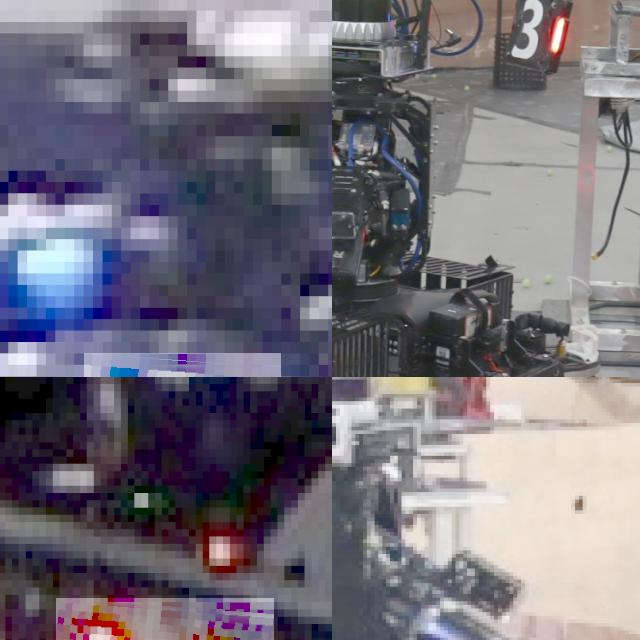R3: (56, 598, 274, 640), (508, 0, 566, 62)
